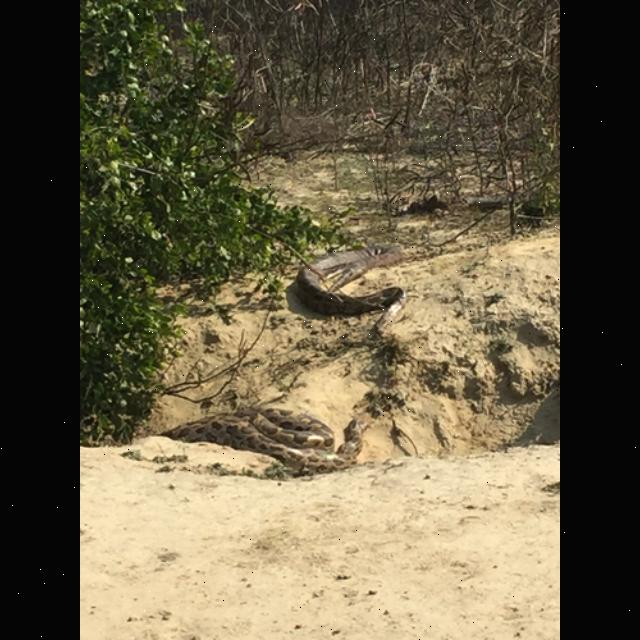snake: (157, 404, 369, 476), (287, 232, 421, 342)
